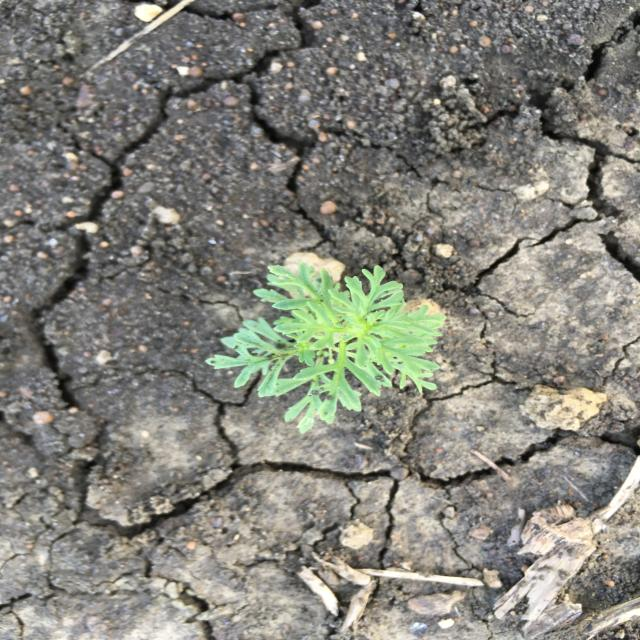Ragweed: (204, 260, 451, 435)
